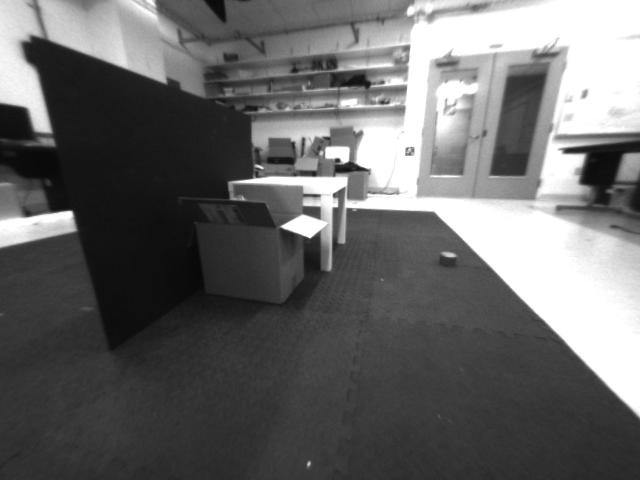dogtoy: (428, 240, 476, 282)
